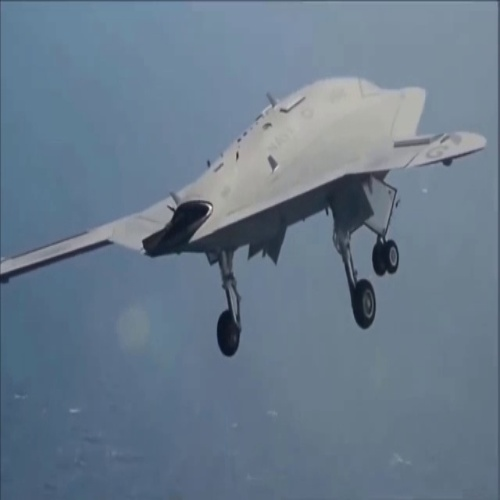uav850: (1, 76, 493, 360)
